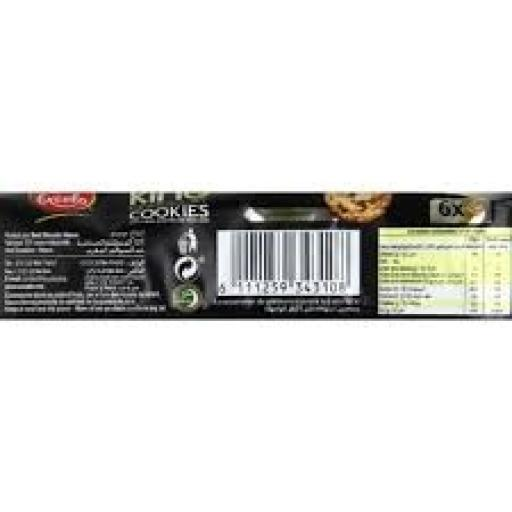king_cooking: (20, 136, 512, 328)
